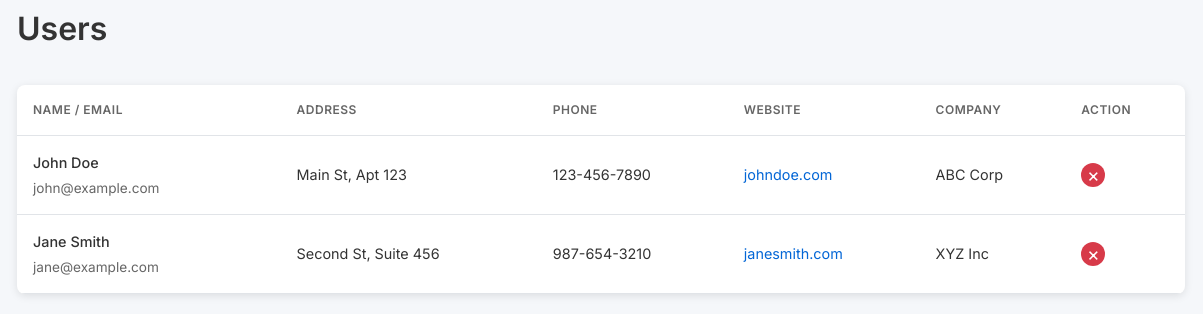
Scenario: App › deletes user when delete button is clicked
Expected: the text "John Doe" is shown, [33,154,99,171]
Expected: the text "Jane Smith" is shown, [33,233,110,250]
// Delete first user
Click the button named "Delete John Doe": (1093, 175) [1081,163,1105,187]
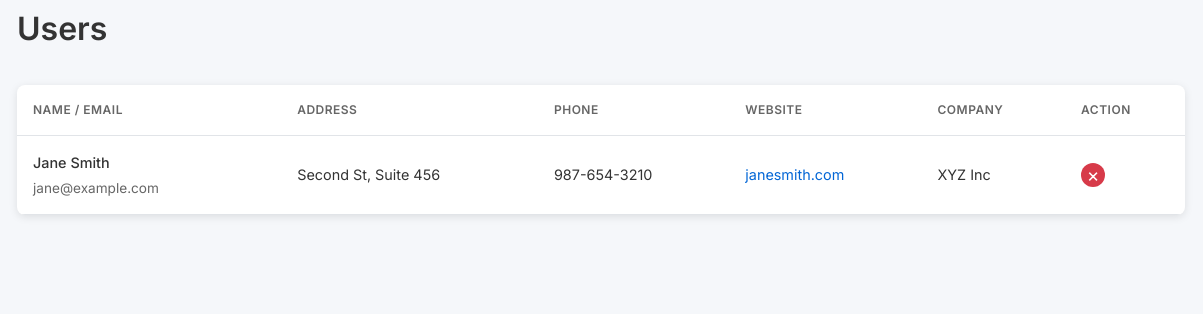
Expected: the text "Jane Smith" is shown, [33,154,110,171]
Now the text "John Doe" is gone
